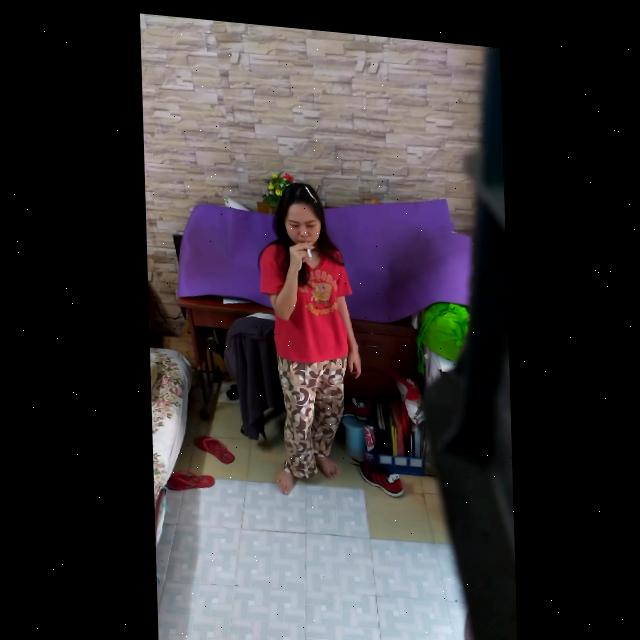cigarette: (304, 236, 310, 254)
